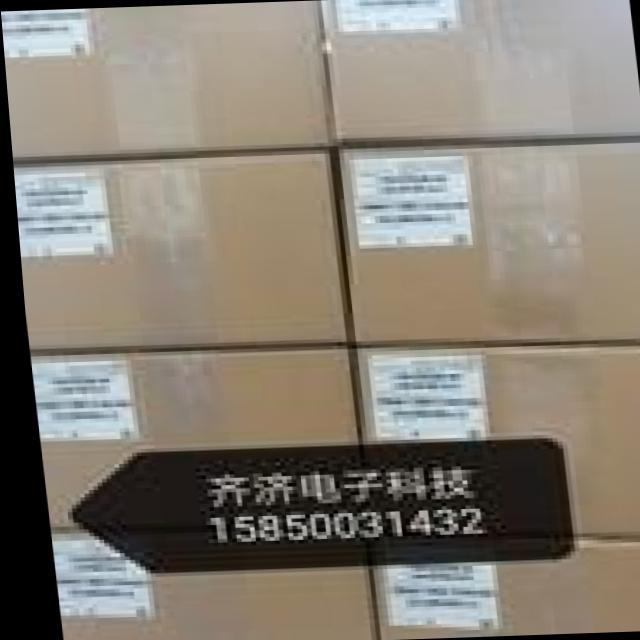box: (11, 153, 345, 352), (335, 138, 640, 345), (24, 348, 358, 534), (345, 341, 640, 536), (1, 0, 335, 160), (321, 0, 640, 142), (41, 523, 365, 640), (358, 523, 640, 640)
